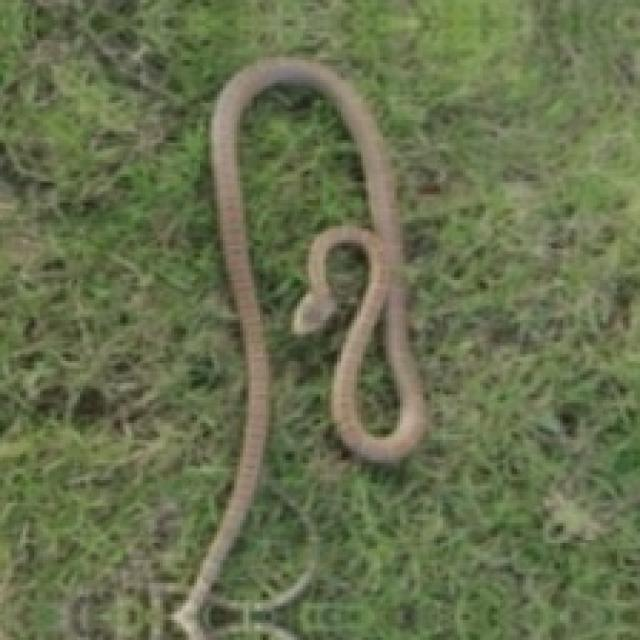paradise tree snake: (174, 57, 423, 637)
